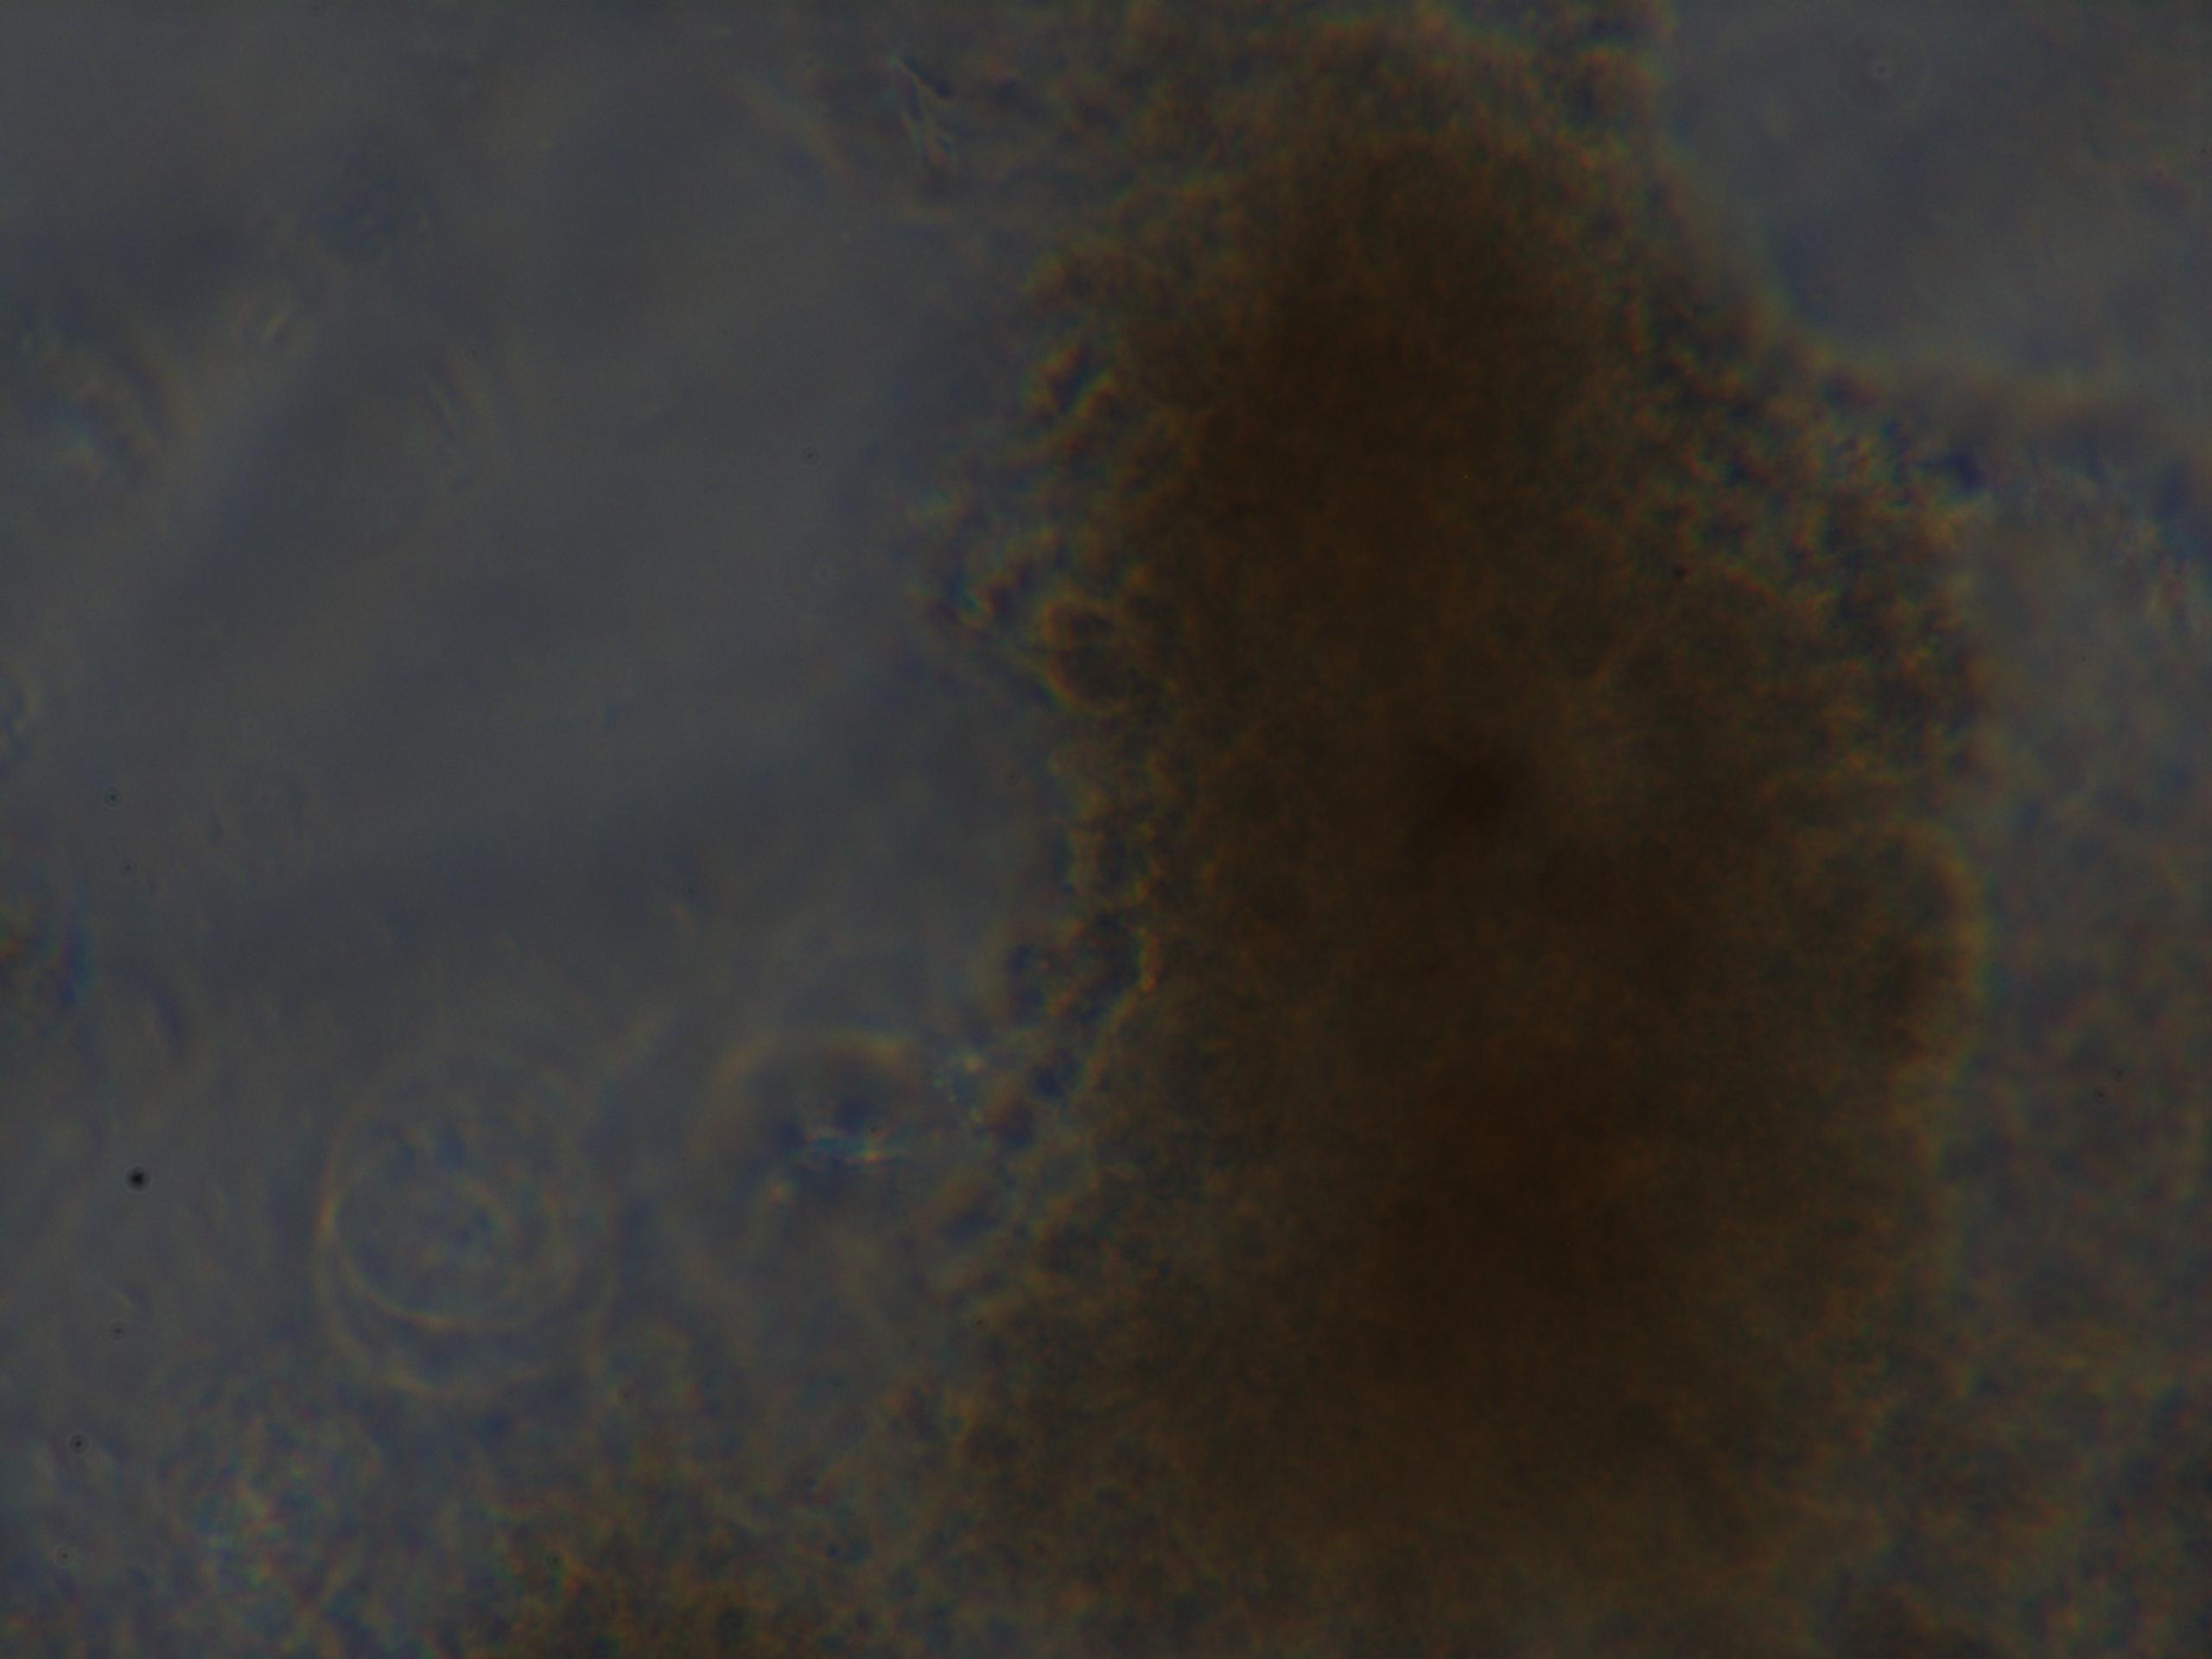spherical_floc: (948, 0, 2010, 1659)
